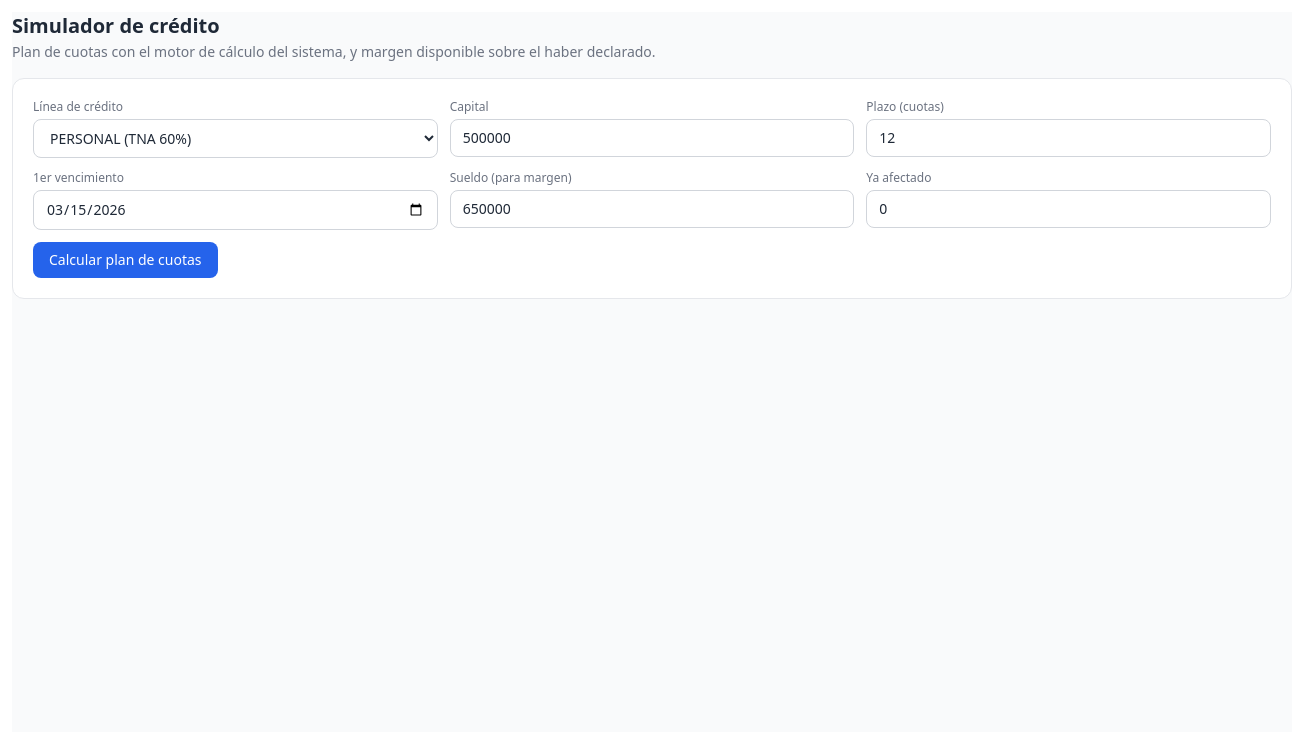
Simulador de crédito › muestra las advertencias del motor
Expected: the dropdown labelled "Línea de crédito" shows "PERSONAL (TNA 60%)", top-left (33, 119), bottom-right (438, 158)
Click the button "Calcular plan de cuotas": (125, 260) top-left (33, 242), bottom-right (218, 278)
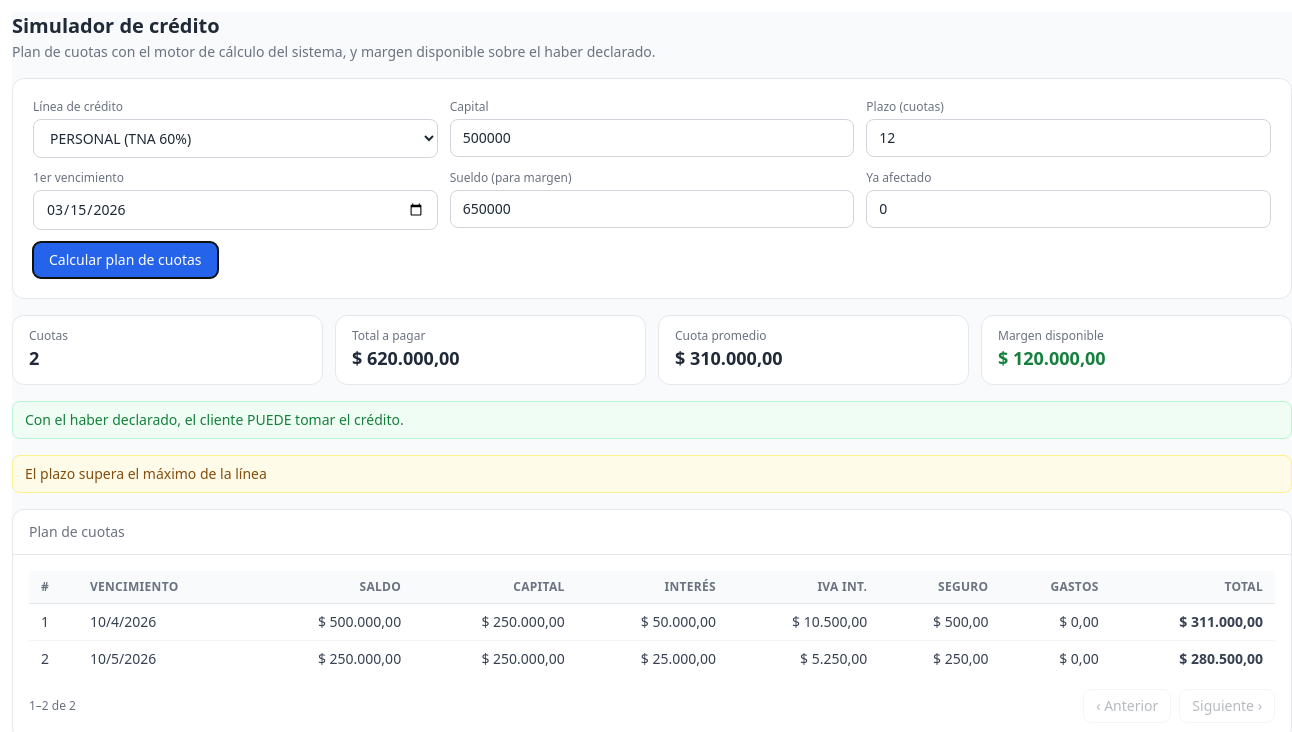
Result: the text "El plazo supera el máximo de la línea" is shown at top-left (12, 455), bottom-right (1291, 493)
